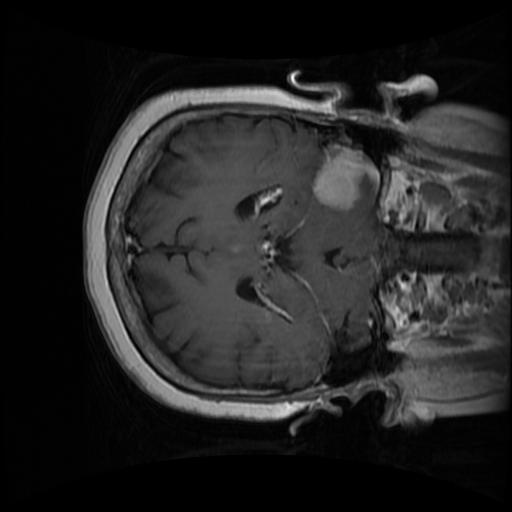meningioma: (310, 144, 380, 211)
